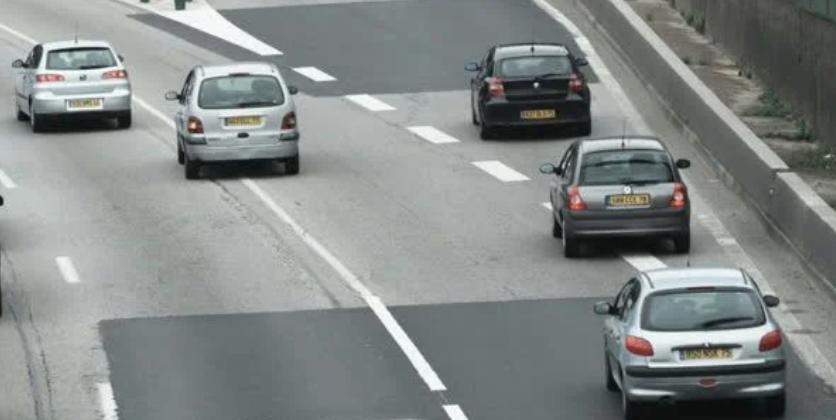car: (586, 267, 795, 420), (164, 61, 311, 180), (545, 138, 696, 250), (460, 37, 599, 133), (12, 37, 136, 133)
